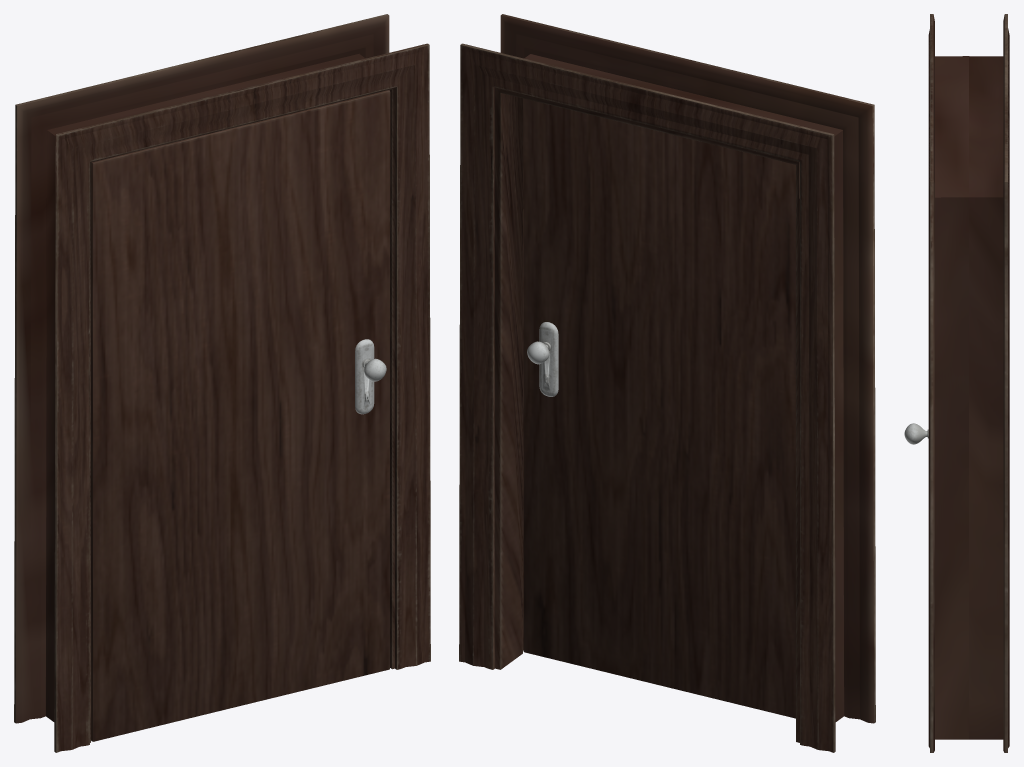
Rendered from door_glb.glb.
The picture shows the model from 3 angles, left to right: view 1: azimuth 30°, elevation 25°; view 2: azimuth 150°, elevation 25°; view 3: azimuth 270°, elevation 25°; orthographic projection. The views are drawn at different scales.
Parts seen in each view (by area): view 1: Door; view 2: Door; view 3: Door.
Part boxes in pixels (x1,y1,x2,y2): Door: [14, 14, 430, 752]; Door: [459, 14, 875, 752]; Door: [904, 14, 1009, 752].
Bounding box in the file's own units: 1.49 × 2.35 × 0.3924.
1 material, 1 textured.
